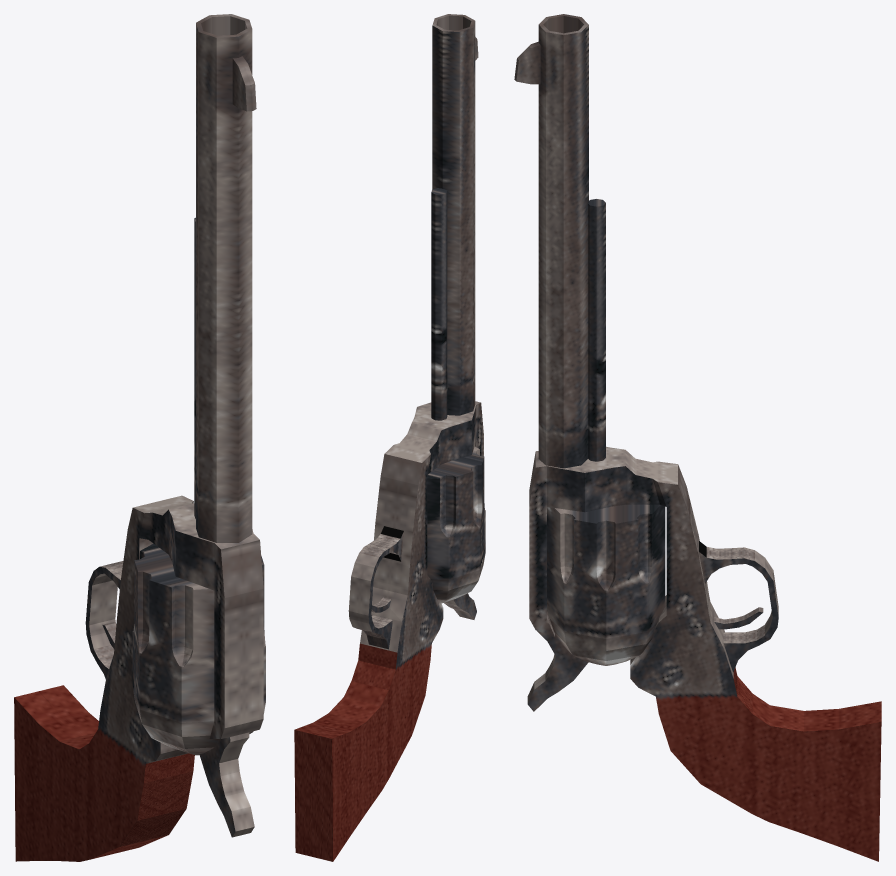
The model's file is CSAA.fbx.
The picture shows the model from 3 angles, left to right: view 1: azimuth 30°, elevation 25°; view 2: azimuth 150°, elevation 25°; view 3: azimuth 270°, elevation 25°; orthographic projection. The views are drawn at different scales.
Visible parts, largest first — view 1: Cube; view 2: Cube; view 3: Cube.
Part boxes in pixels (bbox=[...]): Cube: bbox=[14, 14, 265, 861]; Cube: bbox=[294, 14, 485, 861]; Cube: bbox=[514, 14, 881, 861].
Size of the model in its own units: 0.0333 by 0.2572 by 0.1035.
Materials: 1 (1 with a texture image).
